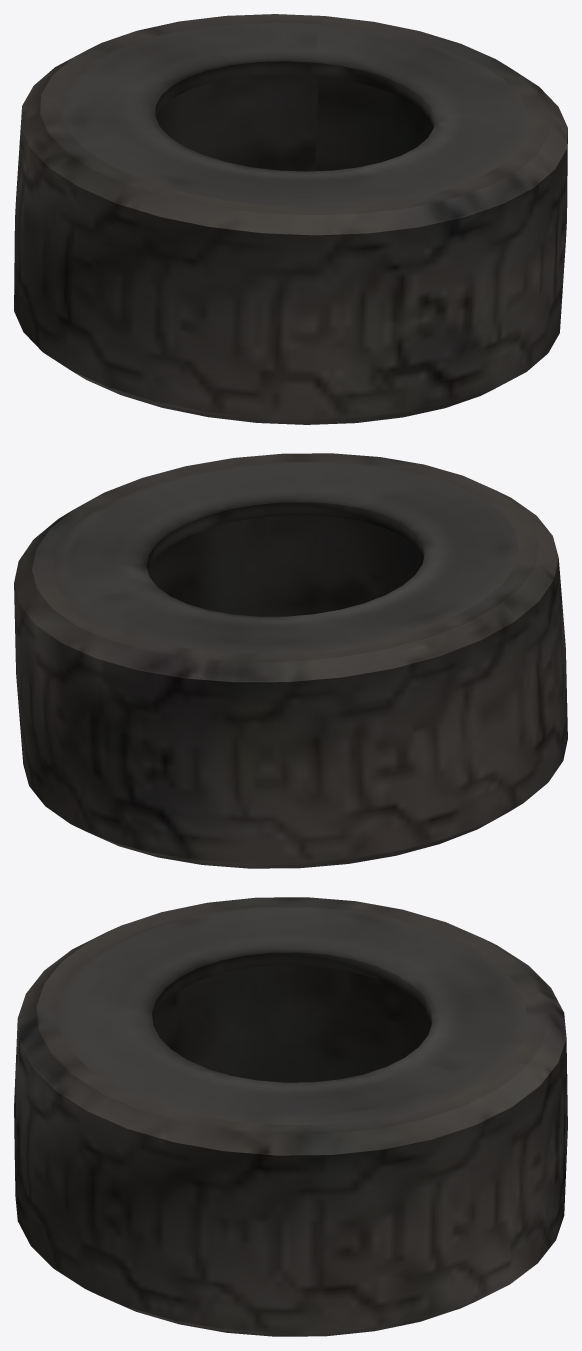
Rendered from tyre--2.gltf.
3 renders of one model, top to bottom at view 1: azimuth 30°, elevation 25°; view 2: azimuth 150°, elevation 25°; view 3: azimuth 270°, elevation 25°, orthographic.
Parts seen in each view (by area): view 1: opon.022; view 2: opon.022; view 3: opon.022.
Part boxes in pixels (x1=…): opon.022: x1=14, y1=14, x2=567, y2=424; opon.022: x1=14, y1=453, x2=567, y2=868; opon.022: x1=14, y1=897, x2=567, y2=1336.
Size of the model in its own units: 0.8113 by 0.3733 by 0.8058.
Materials: 1 (1 with a texture image).
